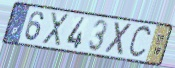3: (87, 19, 110, 54)
4: (65, 16, 86, 51)
6: (24, 10, 45, 43)
C: (126, 24, 154, 61)
X: (103, 20, 134, 57), (41, 11, 70, 47)
